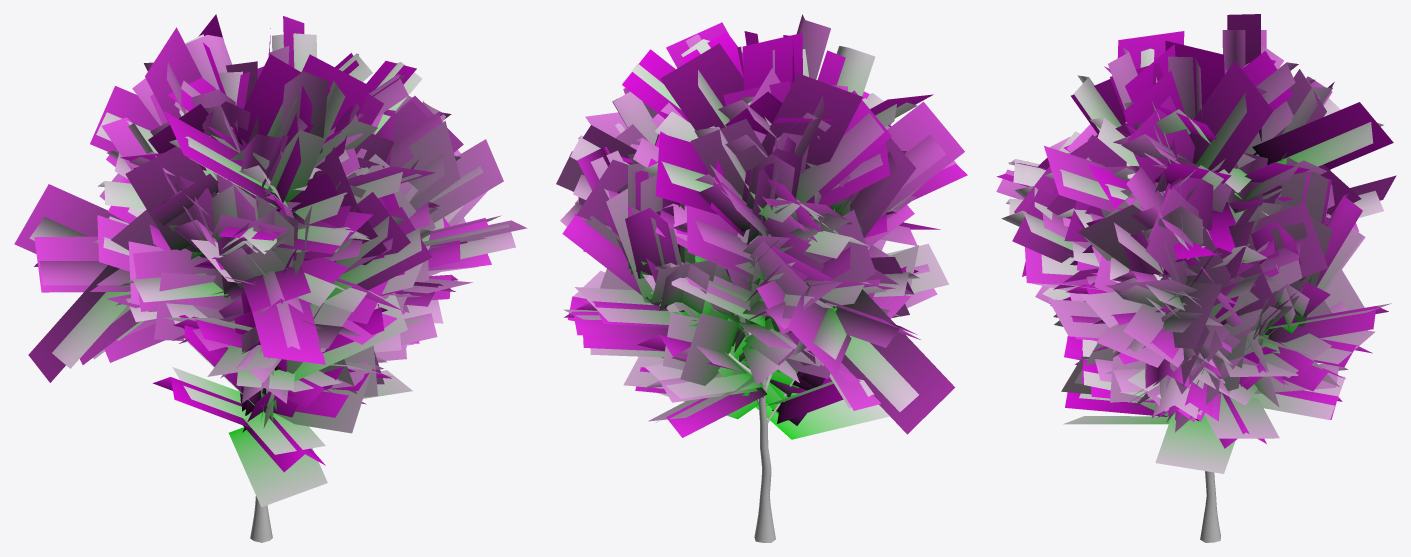
File: rowan_11.fbx
3 views of the same model, side by side, from view 1: azimuth 30°, elevation 25°; view 2: azimuth 150°, elevation 25°; view 3: azimuth 270°, elevation 25° (orthographic). The views are drawn at different scales.
Parts seen in each view (by area): view 1: rowan_leaves_11_shadow, rowan_leaves_11_lod0, rowan_tree_11_lod0; view 2: rowan_leaves_11_shadow, rowan_leaves_11_lod0, rowan_tree_11_lod0; view 3: rowan_leaves_11_shadow, rowan_leaves_11_lod0, rowan_tree_11_lod0.
Boxes of the visible parts, <box> form: rowan_leaves_11_shadow: <box>14,14,527,507</box>; rowan_leaves_11_lod0: <box>29,33,515,472</box>; rowan_tree_11_lod0: <box>250,395,272,542</box>; rowan_leaves_11_shadow: <box>556,22,967,439</box>; rowan_leaves_11_lod0: <box>560,14,956,437</box>; rowan_tree_11_lod0: <box>728,208,836,542</box>; rowan_leaves_11_shadow: <box>996,14,1396,473</box>; rowan_leaves_11_lod0: <box>996,30,1388,448</box>; rowan_tree_11_lod0: <box>1200,471,1220,542</box>.
Size of what is drawn, in the model's own units: 3.34 by 3.71 by 2.71.
